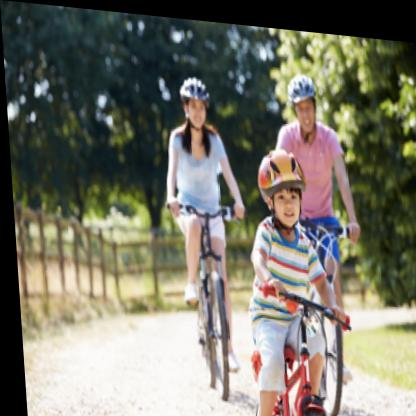With Helmet: (250, 132, 311, 226)
